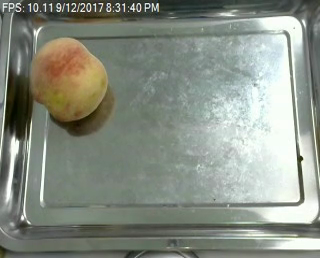Peach: (28, 37, 108, 123)
